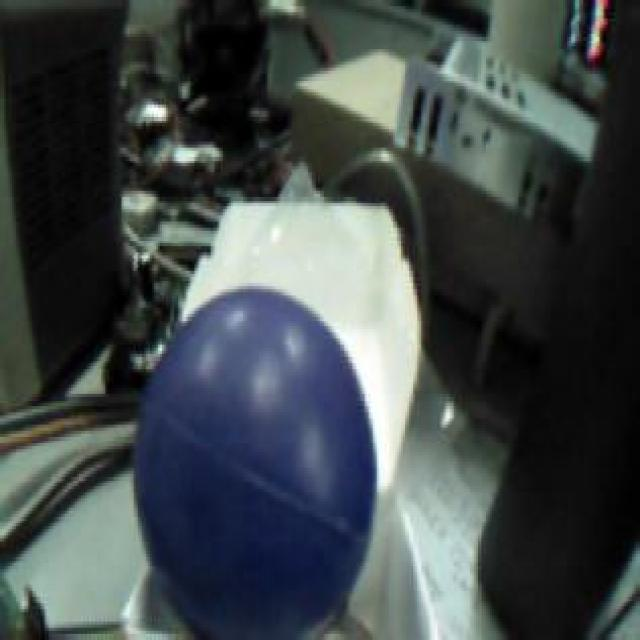BallPurple: (130, 286, 377, 640)
